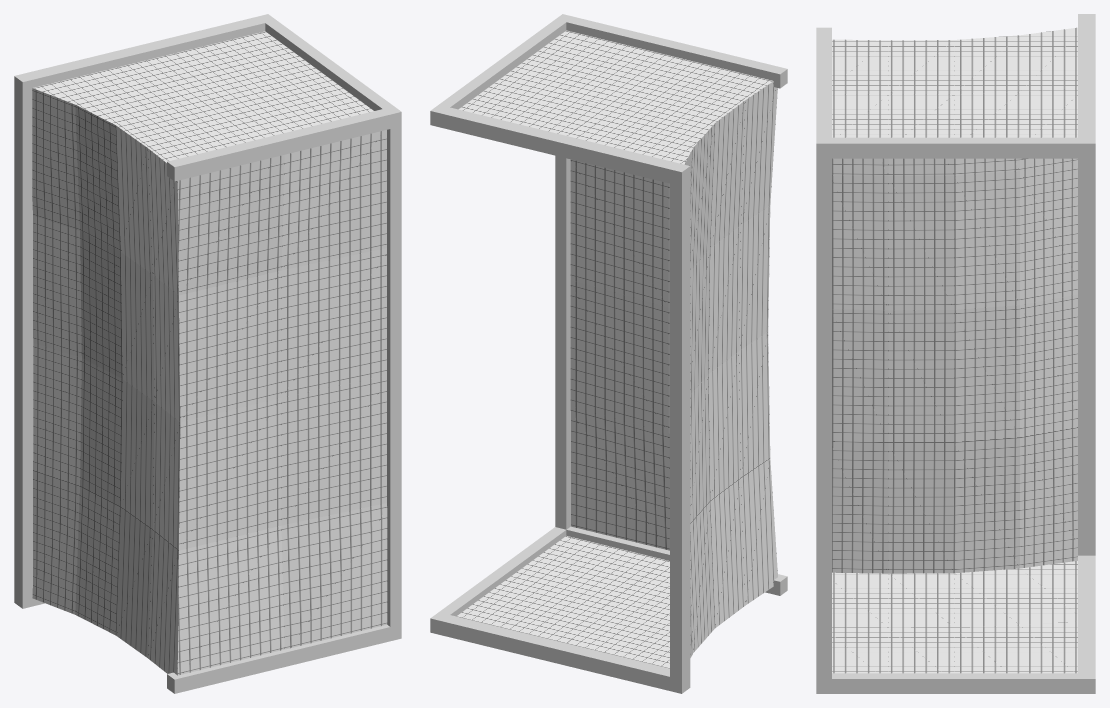
File: GoalPost2.glb
3 renders of one model, left to right at view 1: azimuth 30°, elevation 25°; view 2: azimuth 150°, elevation 25°; view 3: azimuth 270°, elevation 25°, orthographic. The views are drawn at different scales.
Visible parts, largest first — view 1: Net.002, GoalPost.002; view 2: Net.002, GoalPost.002; view 3: Net.002, GoalPost.002.
Boxes of the visible parts, left/top/right/bottom form: Net.002: left=32, top=31, right=387, bottom=675; GoalPost.002: left=14, top=14, right=401, bottom=693; Net.002: left=456, top=30, right=777, bottom=668; GoalPost.002: left=430, top=14, right=787, bottom=693; Net.002: left=832, top=27, right=1077, bottom=673; GoalPost.002: left=816, top=14, right=1095, bottom=693.
Bounding box in the file's own units: 4.86 × 9.62 × 4.43.
2 materials, 1 textured.
